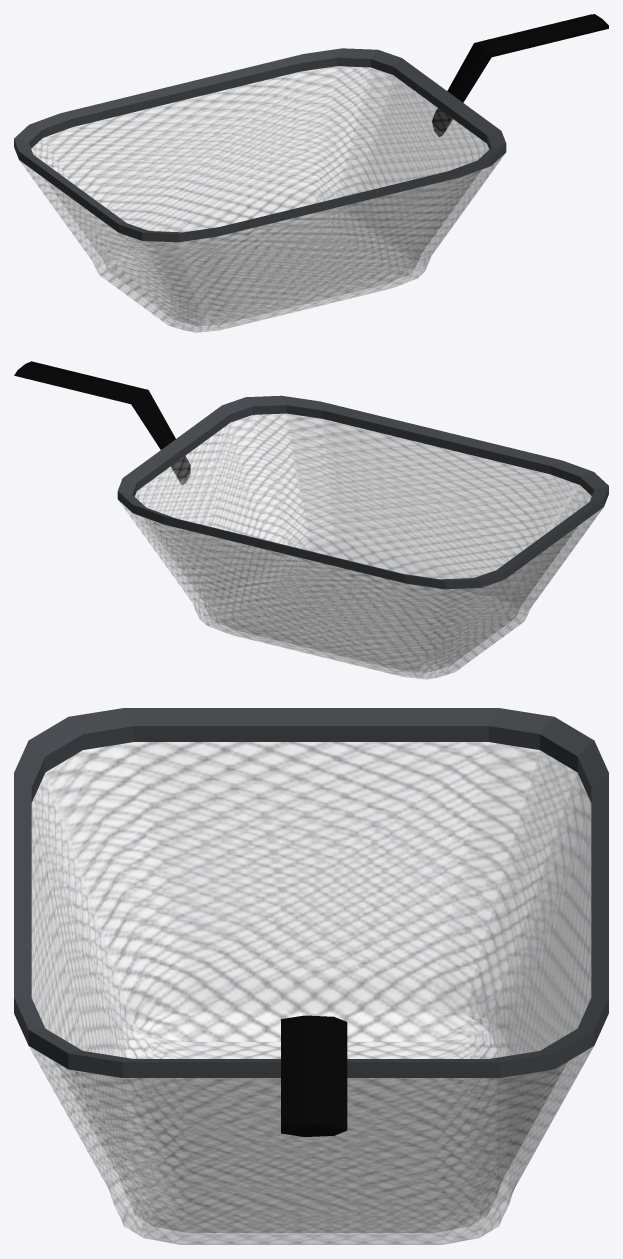
File: FreeturnicaBezKartofel.fbx
3 renders of one model, top to bottom at view 1: azimuth 30°, elevation 25°; view 2: azimuth 150°, elevation 25°; view 3: azimuth 270°, elevation 25°, orthographic. The views are drawn at different scales.
Visible parts, largest first — view 1: Cylinder; view 2: Cylinder; view 3: Cylinder.
Part boxes in pixels (bbox=[...]): Cylinder: bbox=[14, 14, 608, 332]; Cylinder: bbox=[14, 361, 608, 679]; Cylinder: bbox=[14, 708, 608, 1244].
Bounding box in the file's own units: 95.9 × 30.82 × 49.01.
3 materials, 1 textured.
